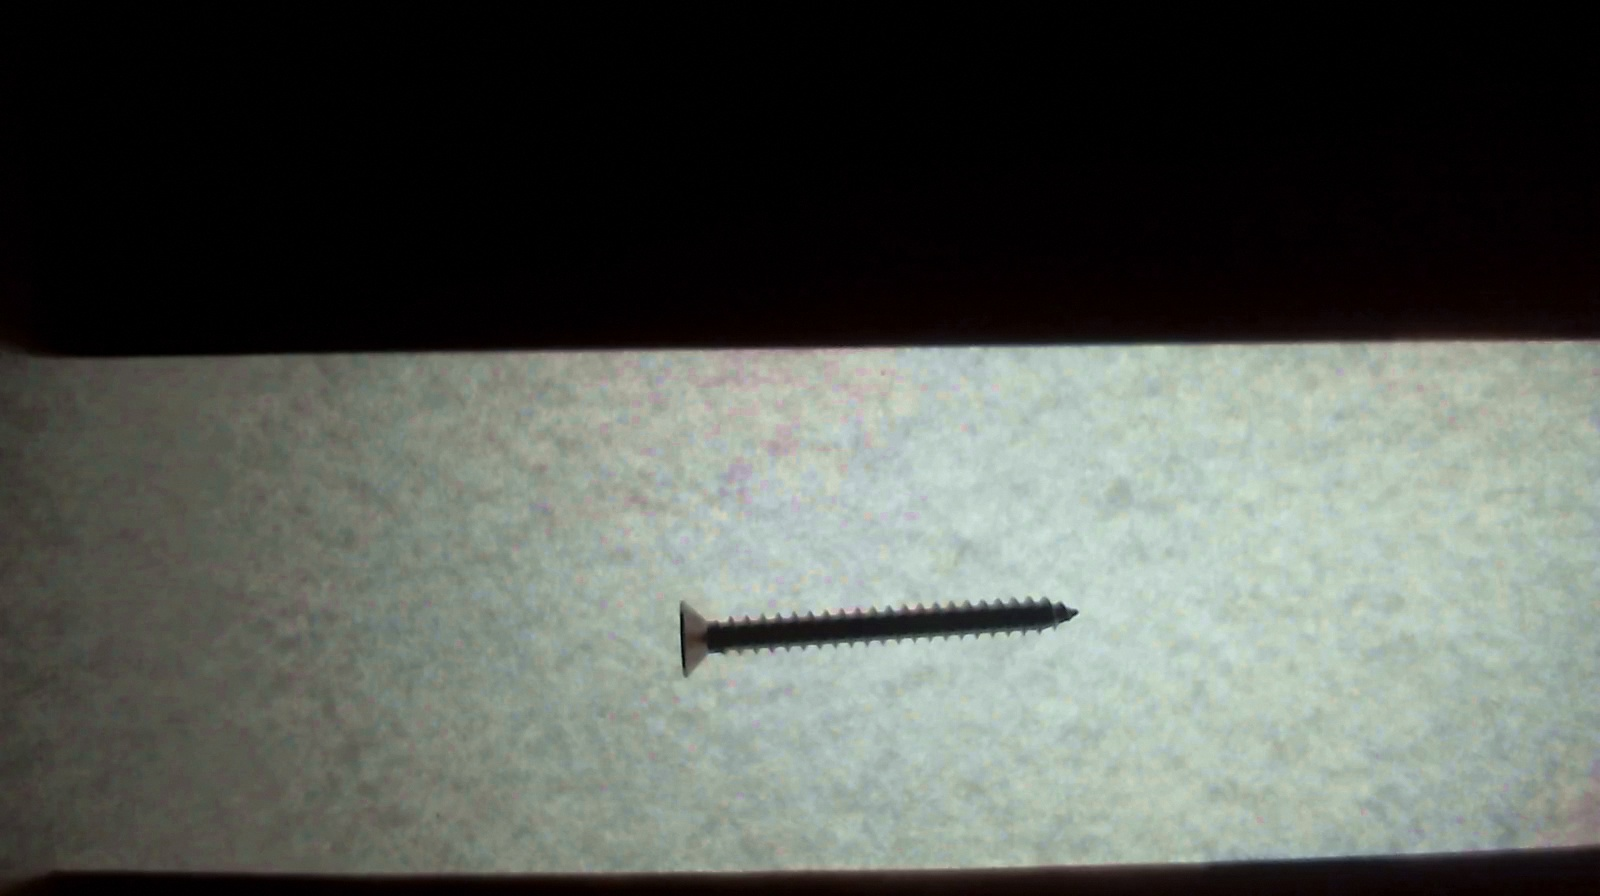S002: (638, 578, 1125, 690)
